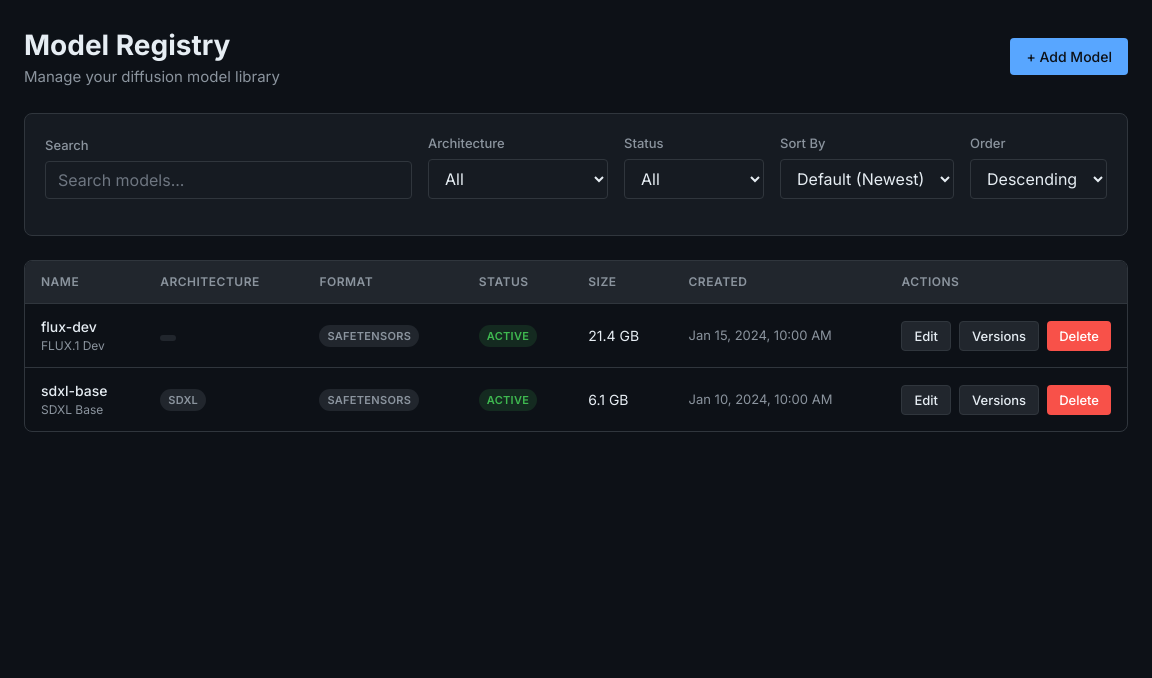
Test: ModelRegistry › opens add model form when clicking Add Model
Click the button "+ Add Model": (1069, 56) [1010,38,1128,75]
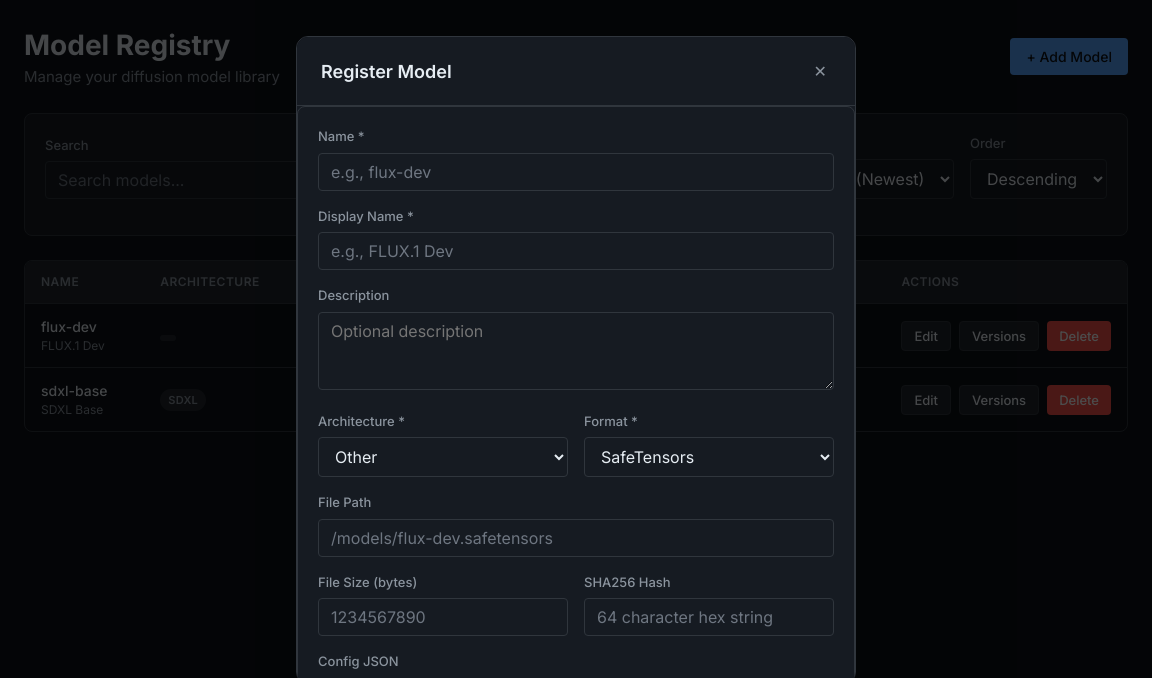
Now the heading "Register Model" is shown, box [321,58,452,84]
Now the field with placeholder "e.g., flux-dev" is shown, box [318,152,834,190]
